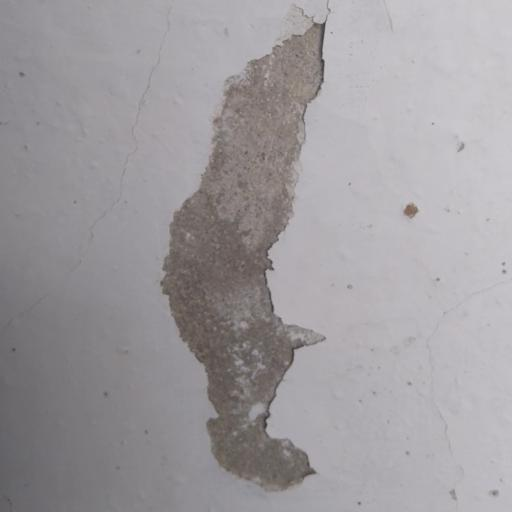peeling: (125, 0, 358, 501)
